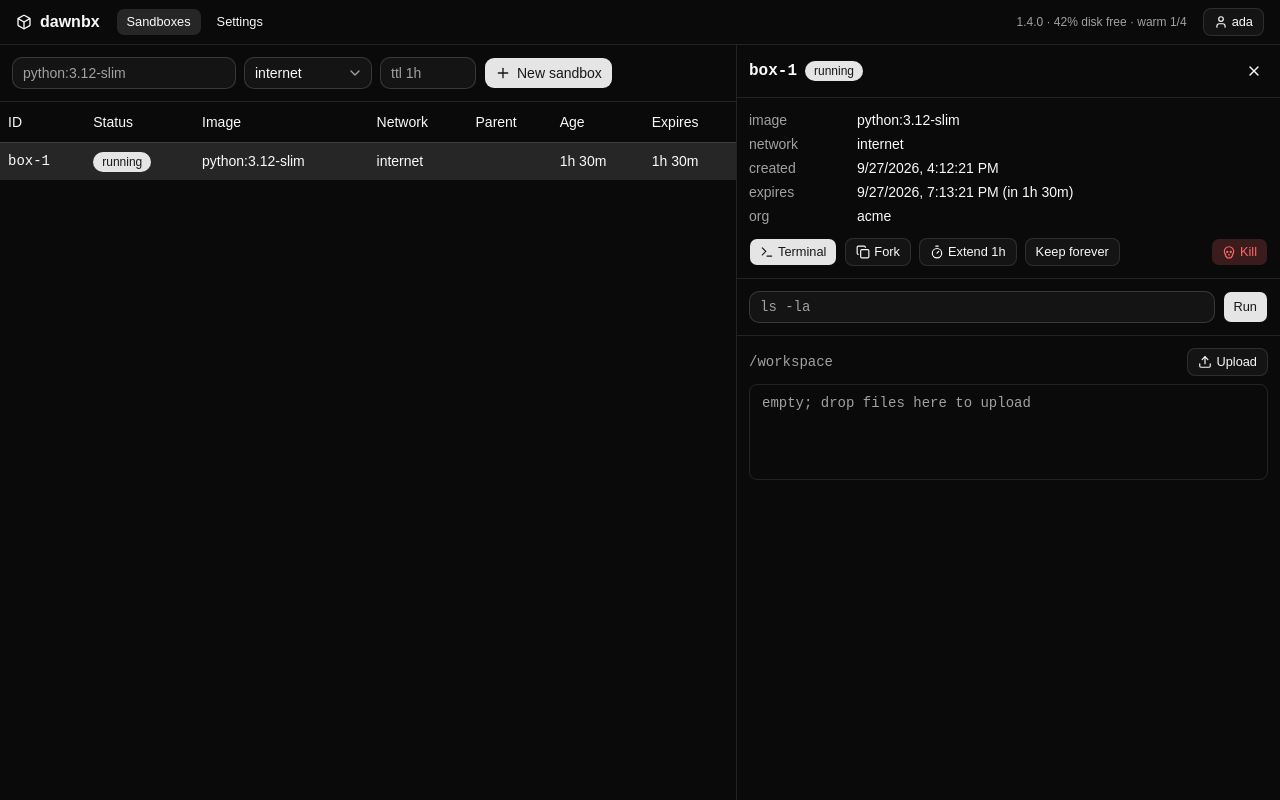
Test case: Sandbox detail actions › runs a command and shows its stdout, stderr and exit code
Type "cat nope" into the field named "command" at (982, 307), box [749,291,1214,323]
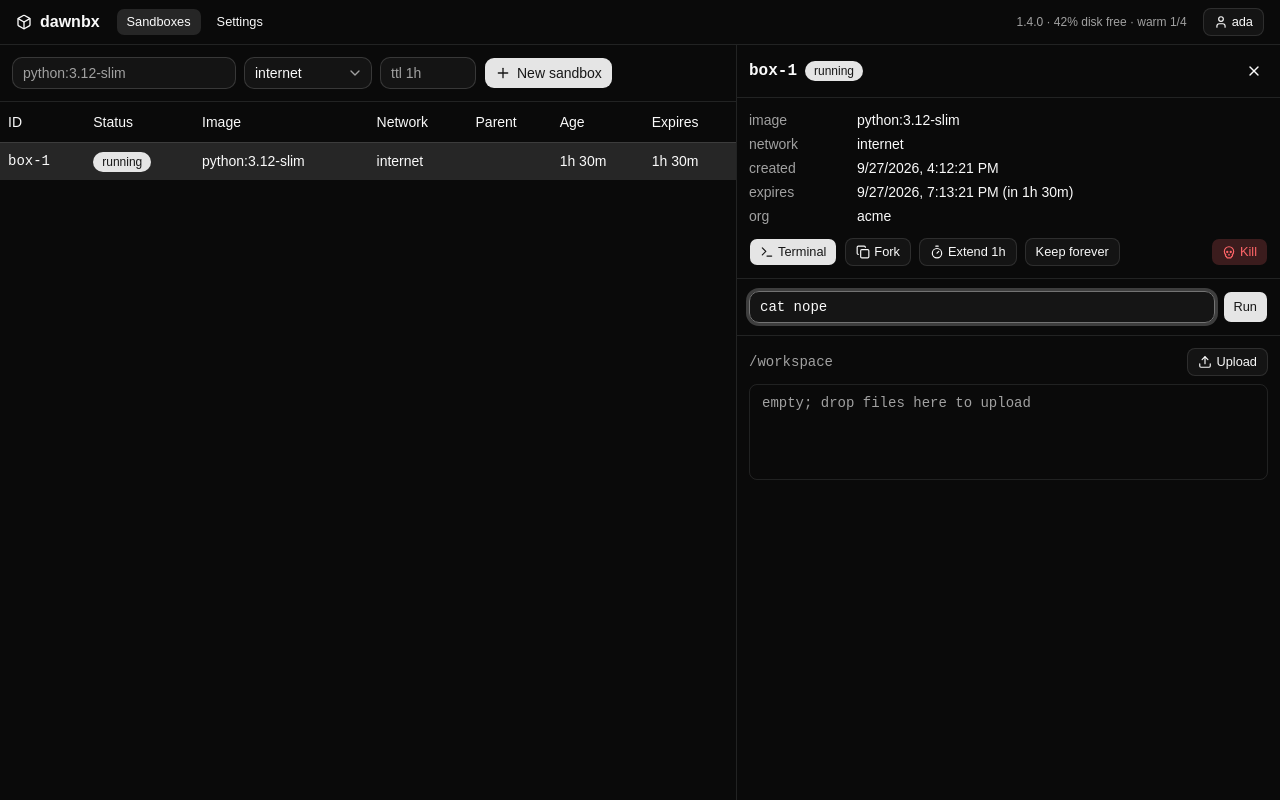
Click the button "Run" at (1245, 307), box [1222,291,1268,323]
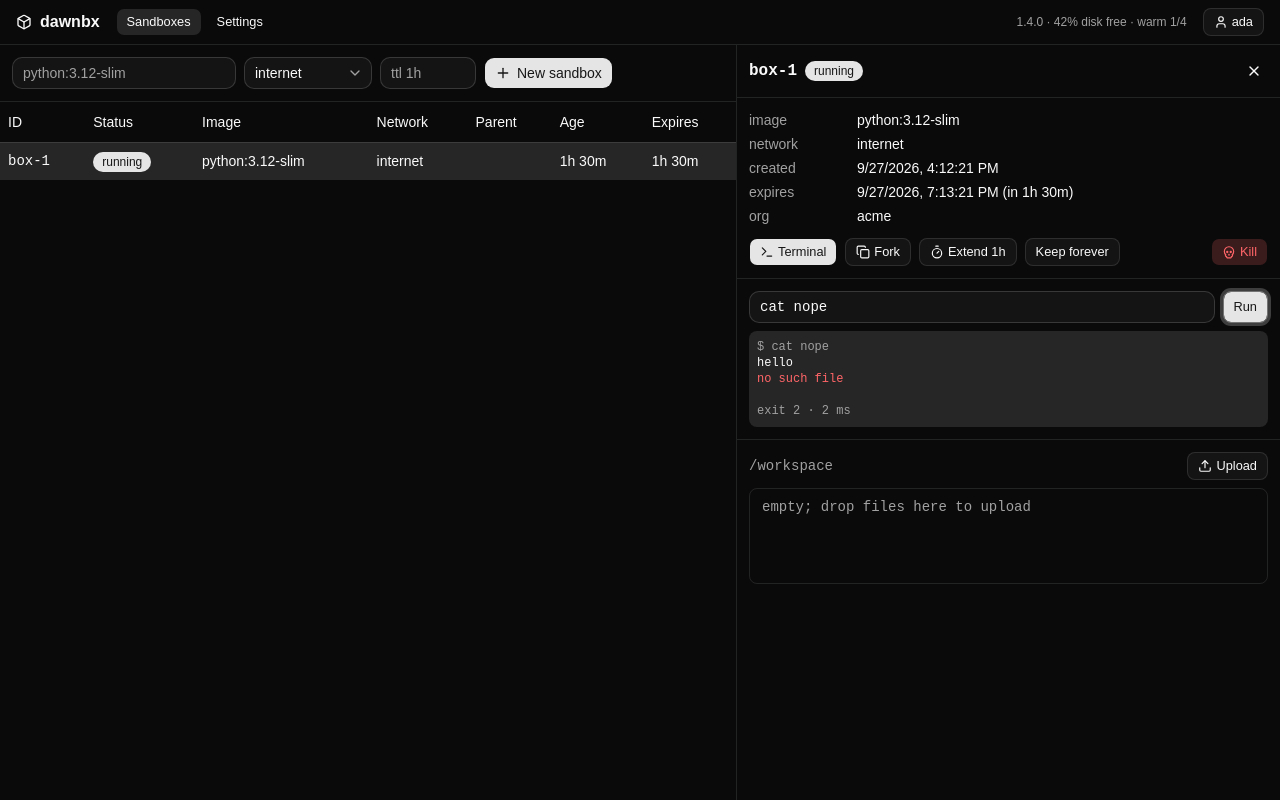
Expected: the text "$ cat nope hello no such file exit 2 · 2 ms" is shown, [749,331,1268,427]
